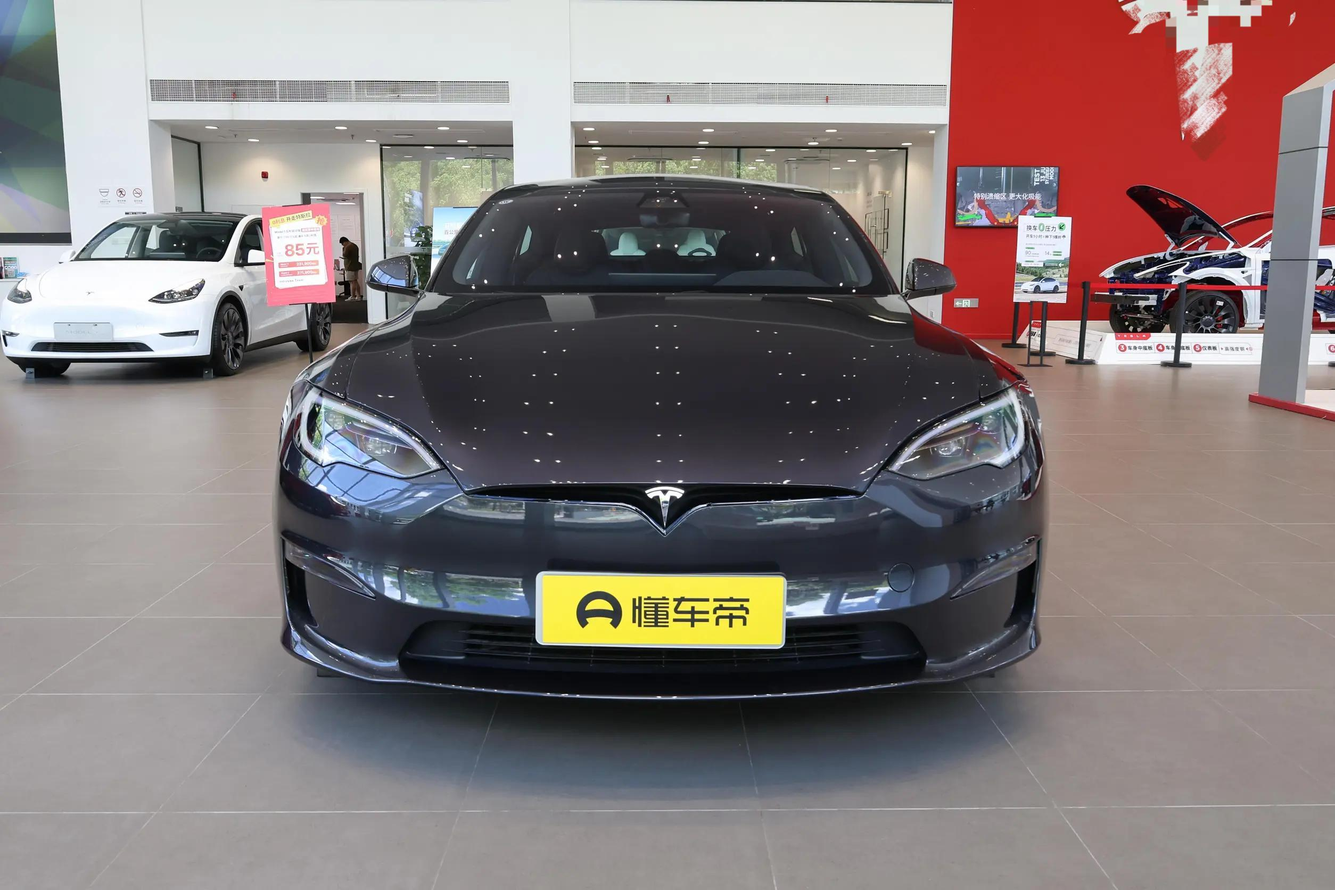Tesla: (644, 486, 685, 529)
